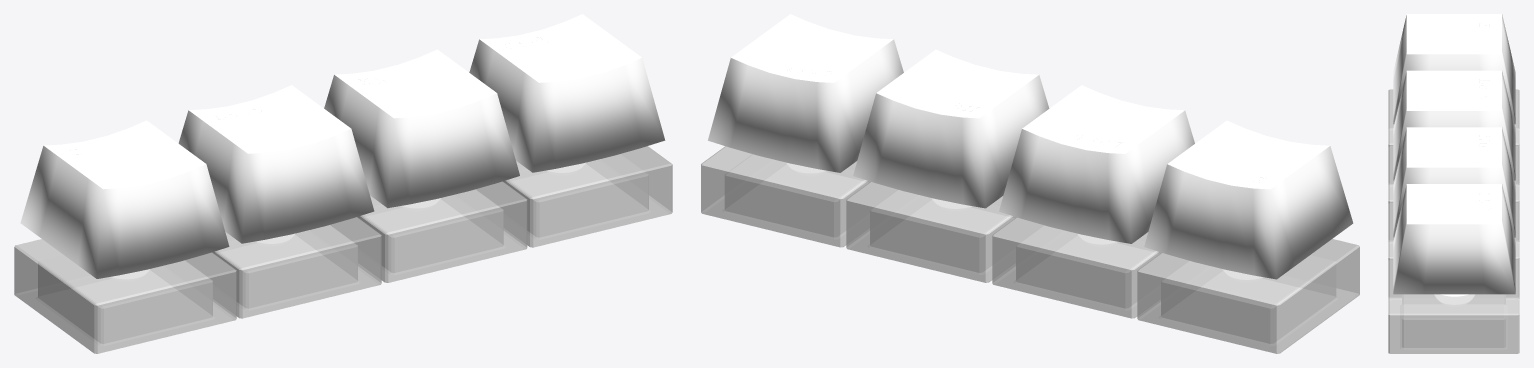
The model's file is Four_keycaps.glb.
3 renders of one model, left to right at view 1: azimuth 30°, elevation 25°; view 2: azimuth 150°, elevation 25°; view 3: azimuth 270°, elevation 25°, orthographic. The views are drawn at different scales.
Visible parts, largest first — view 1: Key1, Key3, Key4, Key2, Base1, Base3, Base4, Base2; view 2: Key1, Key3, Key4, Key2, Base1, Base3, Base4, Base2; view 3: Key4, Base4, Key2, Key3, Key1, Base2, Base1, Base3, Light4.
Boxes of the visible parts, <box> form: Key1: <box>20,120,229,278</box>; Key3: <box>324,49,519,208</box>; Key4: <box>469,14,665,172</box>; Key2: <box>178,85,374,243</box>; Base1: <box>14,239,236,353</box>; Base3: <box>357,181,527,282</box>; Base4: <box>502,146,672,247</box>; Base2: <box>212,217,381,318</box>; Key1: <box>1144,120,1353,279</box>; Key3: <box>853,49,1049,208</box>; Key4: <box>708,14,903,172</box>; Key2: <box>999,85,1194,243</box>; Base1: <box>1137,239,1359,353</box>; Base3: <box>846,181,1016,282</box>; Base4: <box>701,146,869,247</box>; Base2: <box>992,217,1160,318</box>; Key4: <box>1393,184,1515,294</box>; Base4: <box>1388,259,1519,353</box>; Key2: <box>1393,70,1515,180</box>; Key3: <box>1393,127,1515,237</box>; Key1: <box>1393,14,1515,124</box>; Base2: <box>1388,146,1519,203</box>; Base1: <box>1388,89,1519,146</box>; Base3: <box>1388,203,1519,260</box>; Light4: <box>1434,294,1474,306</box>.
Size of the model in its own units: 2.75 by 0.6967 by 0.6776.
Materials: 7 (4 with a texture image).
